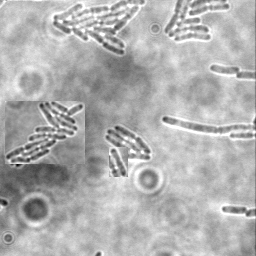Dividing: (161, 114, 255, 133), (221, 204, 248, 215)
Microcolony: (51, 1, 147, 56), (5, 101, 85, 164), (162, 1, 231, 44), (106, 124, 153, 160), (208, 63, 240, 74)
Rod: (109, 147, 128, 177)
